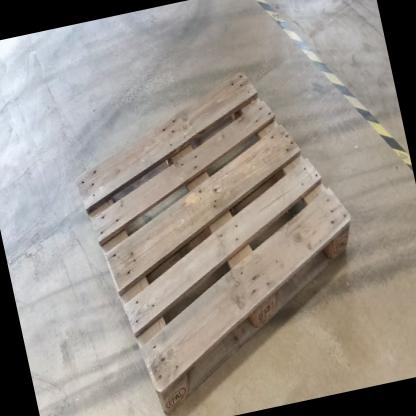BoxFace: (67, 62, 354, 416)
